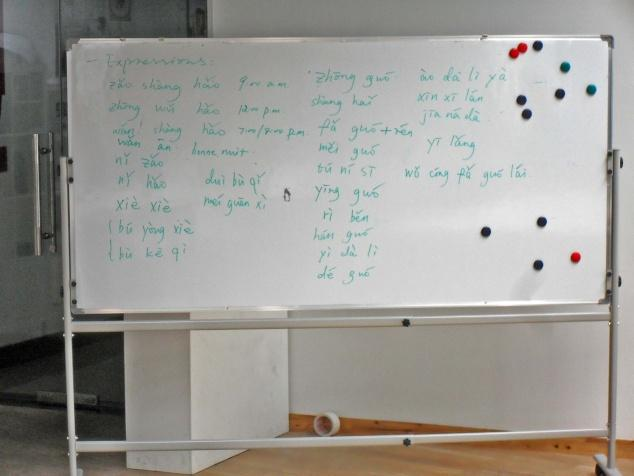Whiteboard: (63, 32, 616, 305)
